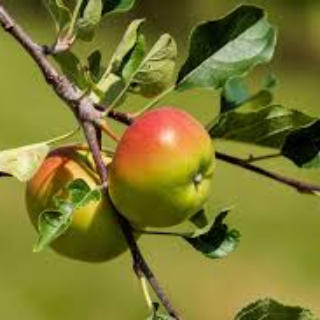tao: (101, 104, 220, 229)
